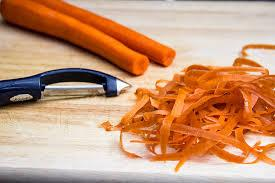Organic: (4, 5, 275, 183)
